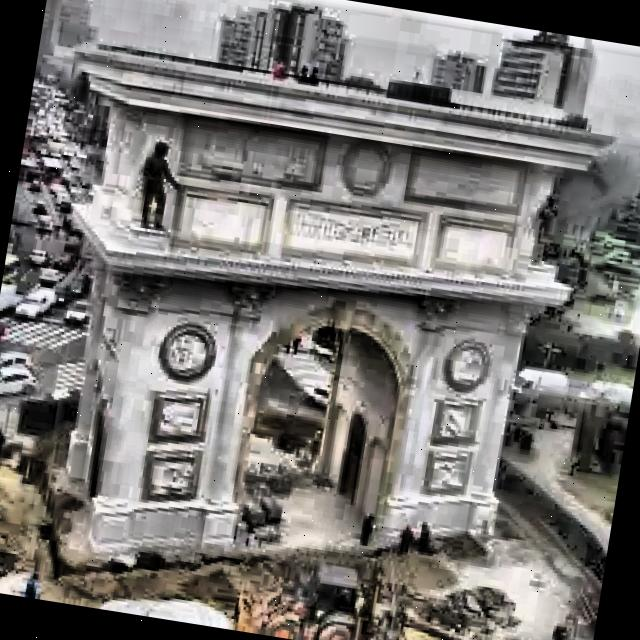triumphal arch: (32, 38, 635, 640)
